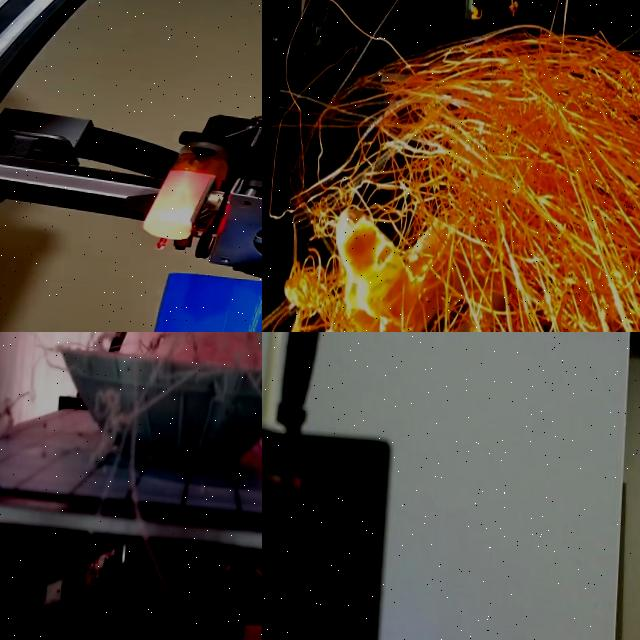spaghetti: (262, 0, 640, 332), (0, 332, 262, 530)
